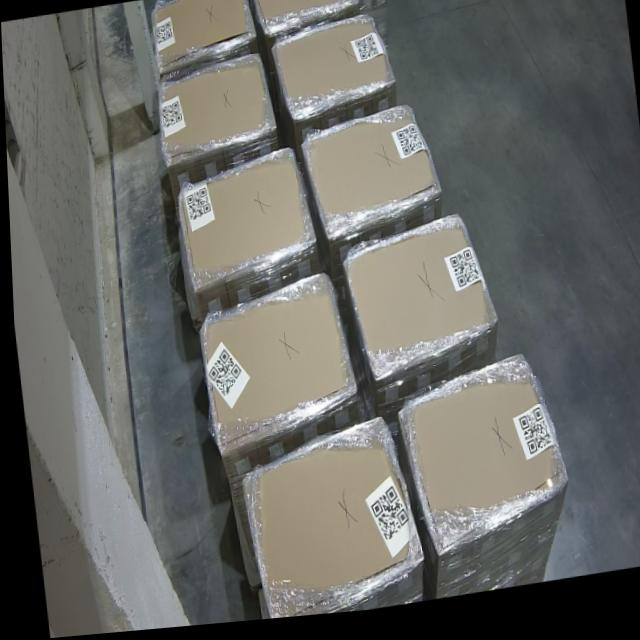pallet: (394, 363, 564, 560), (239, 429, 406, 623), (197, 275, 350, 451), (340, 224, 489, 384), (175, 152, 311, 292), (304, 108, 436, 239), (152, 54, 271, 169), (271, 17, 392, 119), (152, 0, 254, 74), (254, 0, 357, 37)
